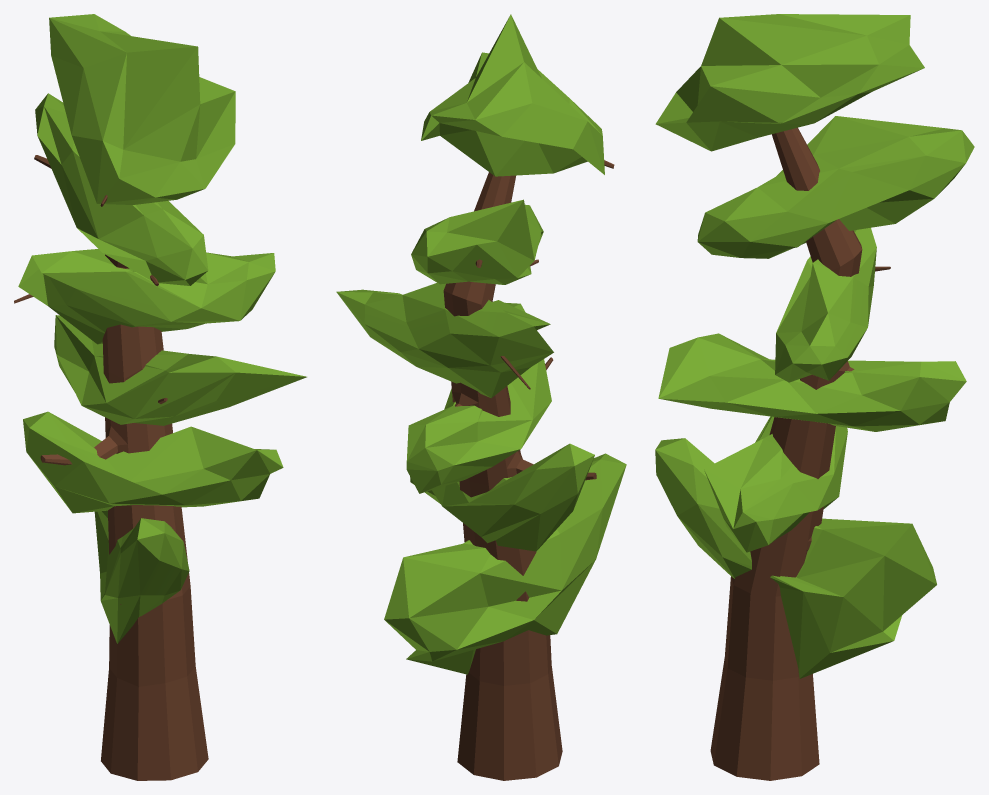
The model's file is Natures2t5-green.fbx.
3 views of the same model, side by side, from view 1: azimuth 30°, elevation 25°; view 2: azimuth 150°, elevation 25°; view 3: azimuth 270°, elevation 25° (orthographic). The views are drawn at different scales.
Parts seen in each view (by area): view 1: t5-green; view 2: t5-green; view 3: t5-green.
Boxes of the visible parts, box(x1,y1,x2,y2) form: t5-green: box(14, 14, 306, 780); t5-green: box(336, 14, 626, 780); t5-green: box(655, 14, 974, 780).
Size of the model in its own units: 358 by 984 by 379.
